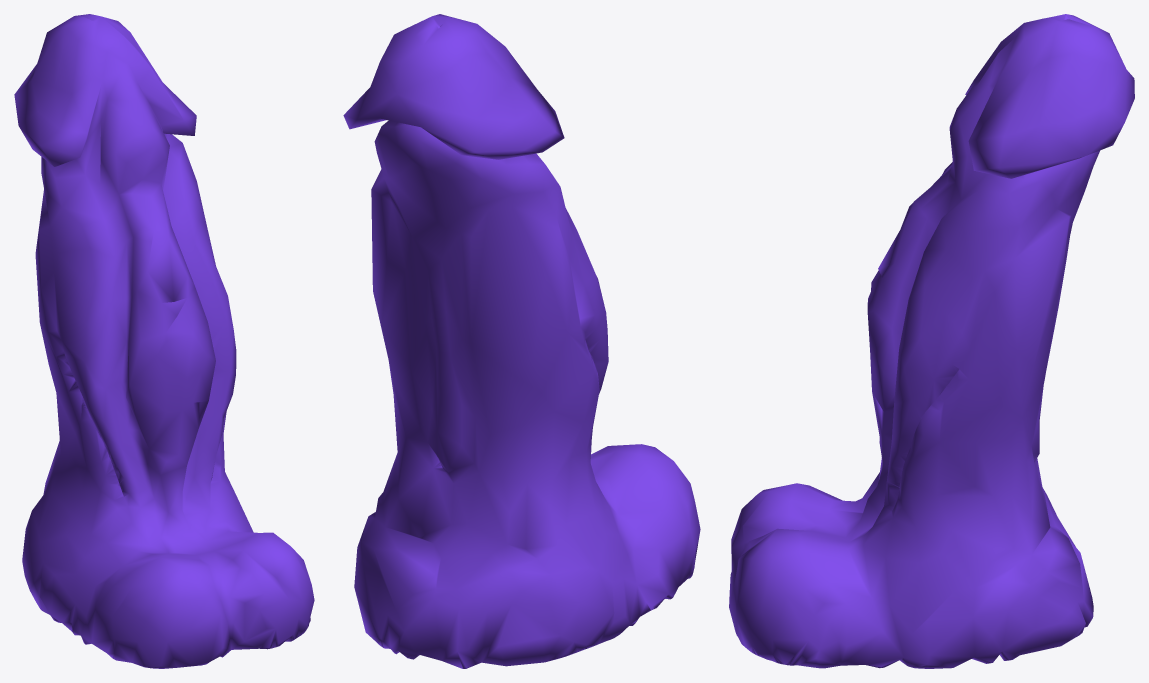
The model's file is small-suction-ar.glb.
3 views of the same model, side by side, from view 1: azimuth 30°, elevation 25°; view 2: azimuth 150°, elevation 25°; view 3: azimuth 270°, elevation 25° (orthographic). The views are drawn at different scales.
Size of the model in its own units: 0.0843 by 0.2049 by 0.1265.
